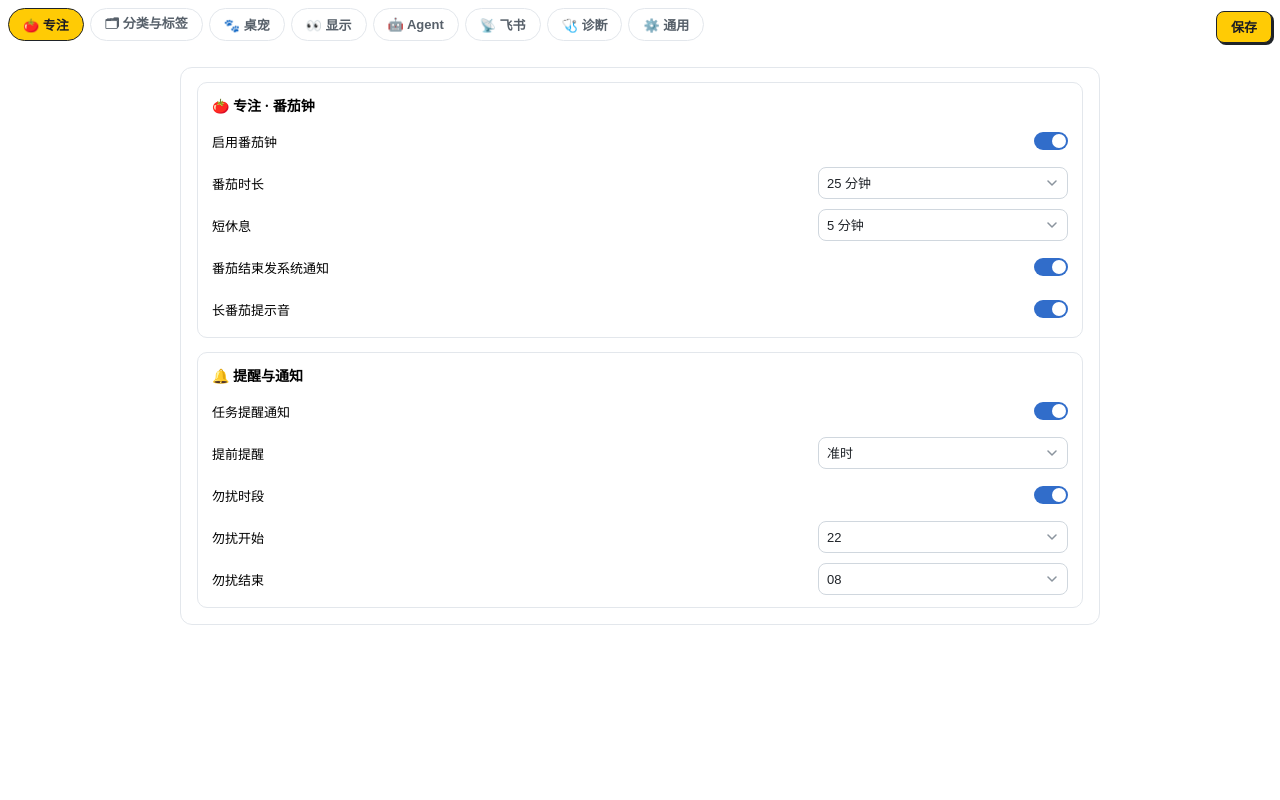
Test: 保存制（U21） › 未保存静态角标 ● + title「有未保存的修改」（不闪烁）
Click the switch labelled "启用番茄钟".
click(245, 142)  # box [212,125,1068,157]
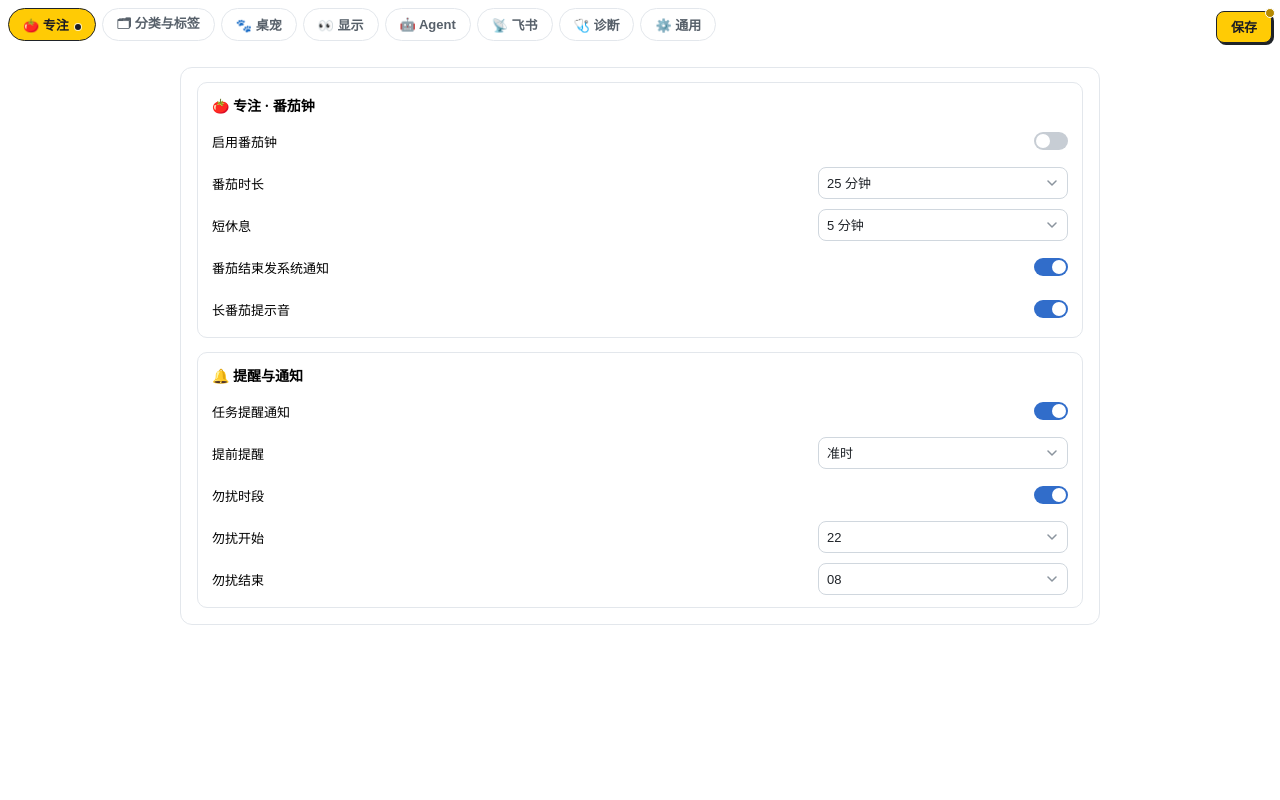
Result: the element with test id "unsaved-dot" is shown at [1265,8,1275,18]
